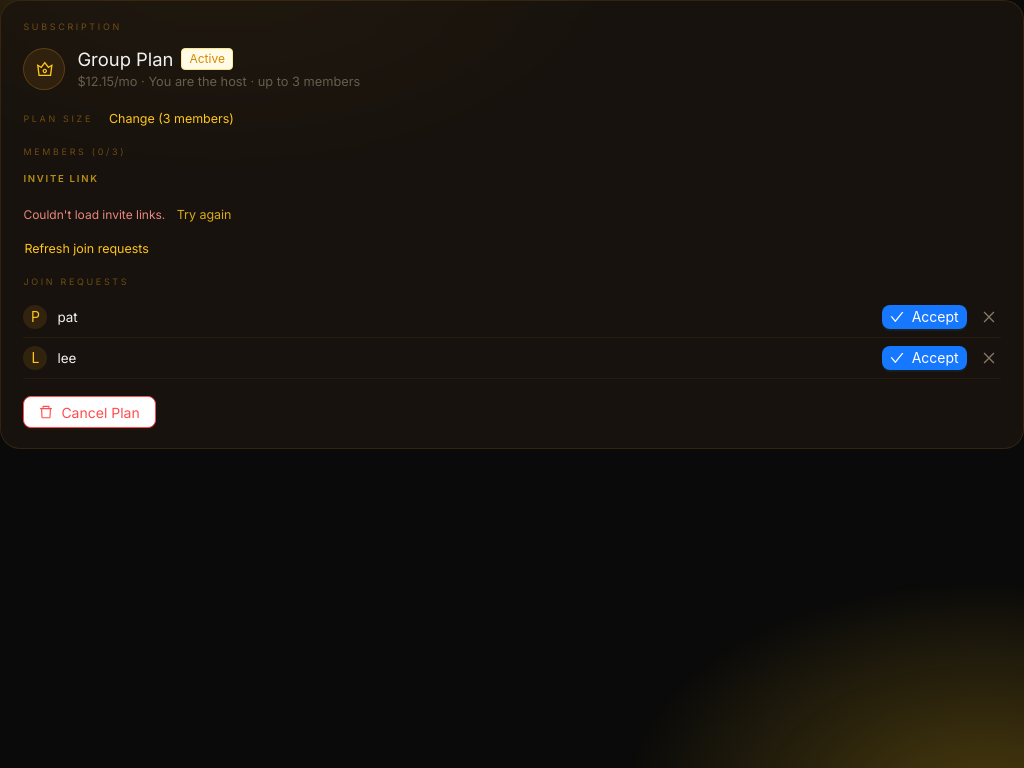
Test: SubscriptionCard invite link › accept failure (plan full) surfaces the server detail; decline removes the row
This screenshot has width=1024, height=768.
Expected: the text "pat" is shown, [57,309,78,325]
Click the button "Accept" in the row of "pat".
click(924, 317)  # box [882,305,967,329]
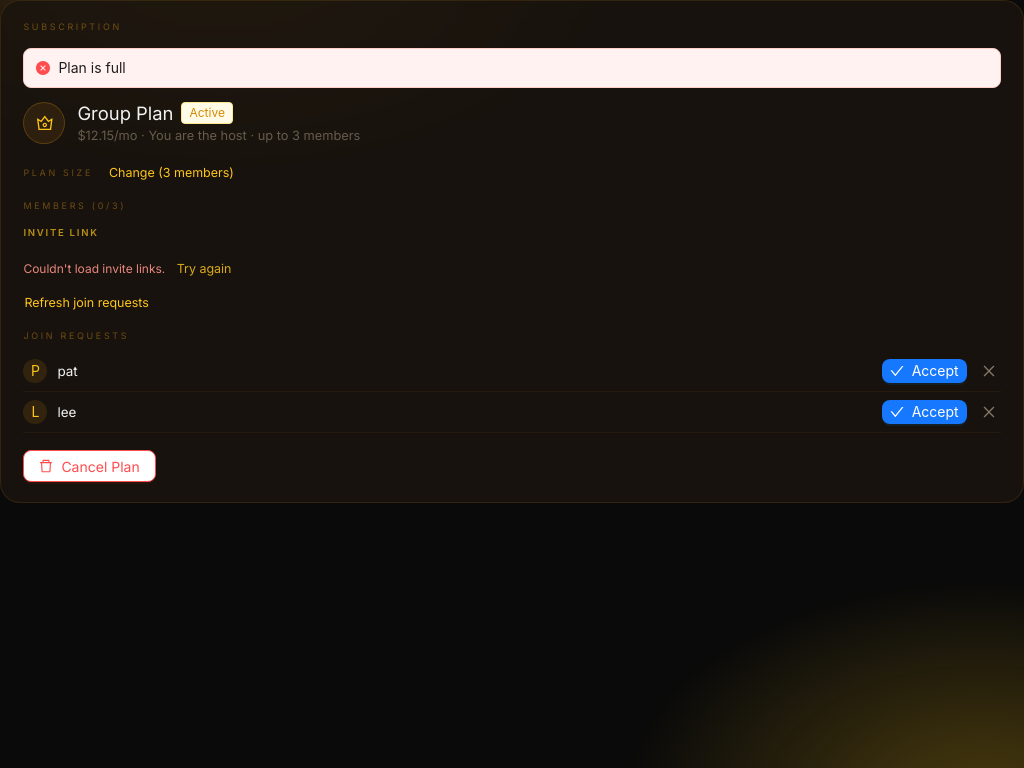
Expected: the text "pat" is shown, [57,363,78,379]
Result: the text "Plan is full" is shown at [58,59,126,76]
Click the button without text in the row of "lee".
click(989, 412)  # box [977,400,1001,424]
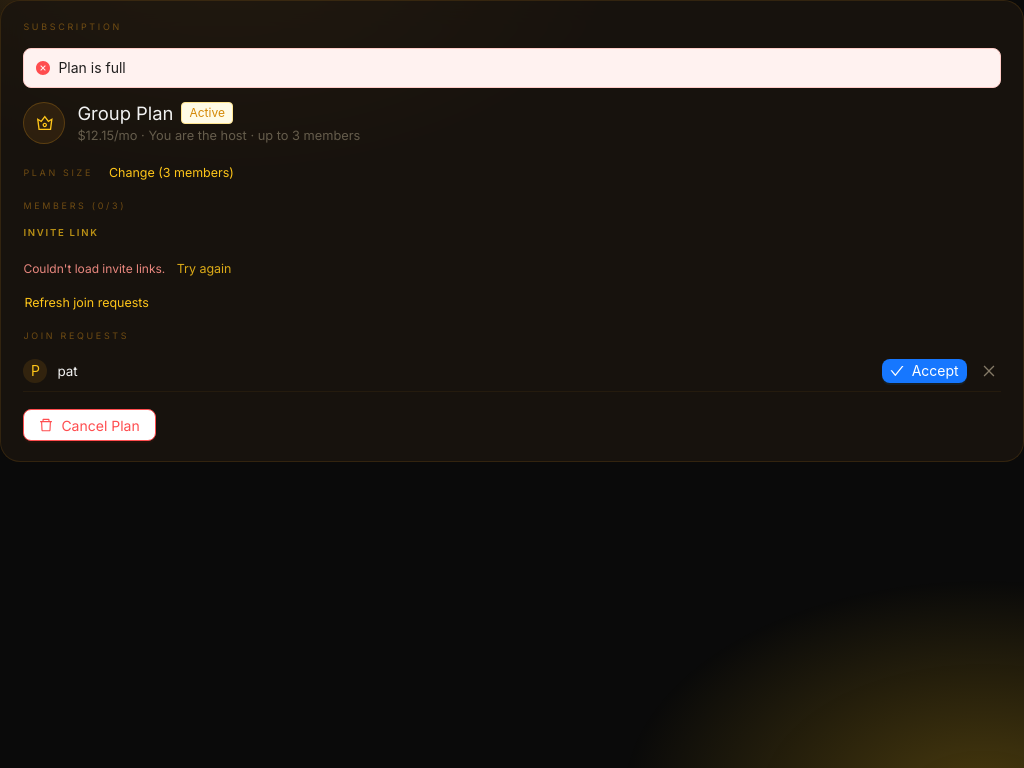
Result: the text "lee" is gone
